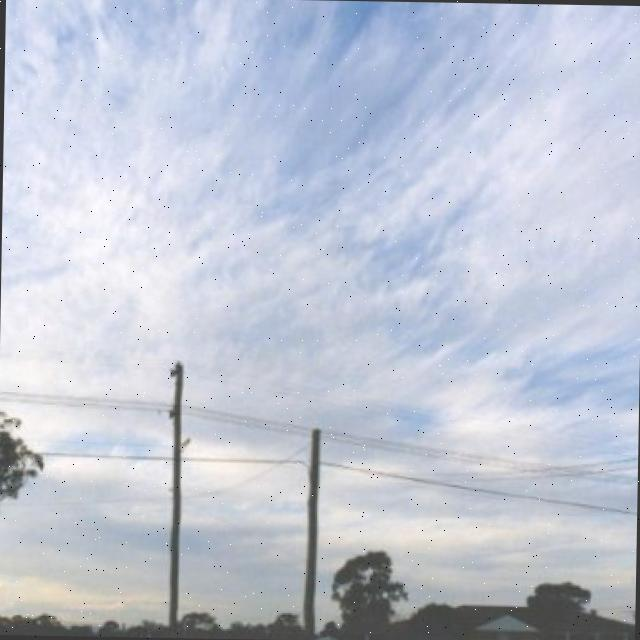Cc: (17, 1, 640, 354)
